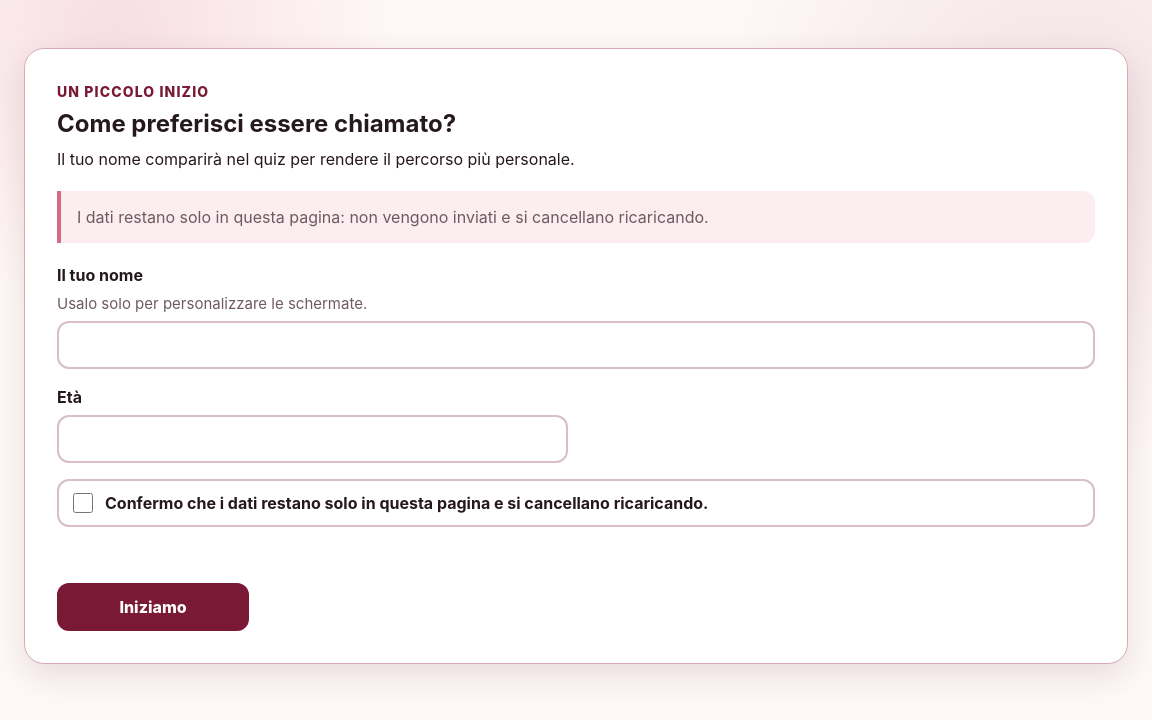
Test: LocalProfileIntroduction › blocca chi non ha l’età minima
Type "Luca" into the field labelled "Il tuo nome".
click(576, 345); type("Luca")  # box [57,321,1095,369]
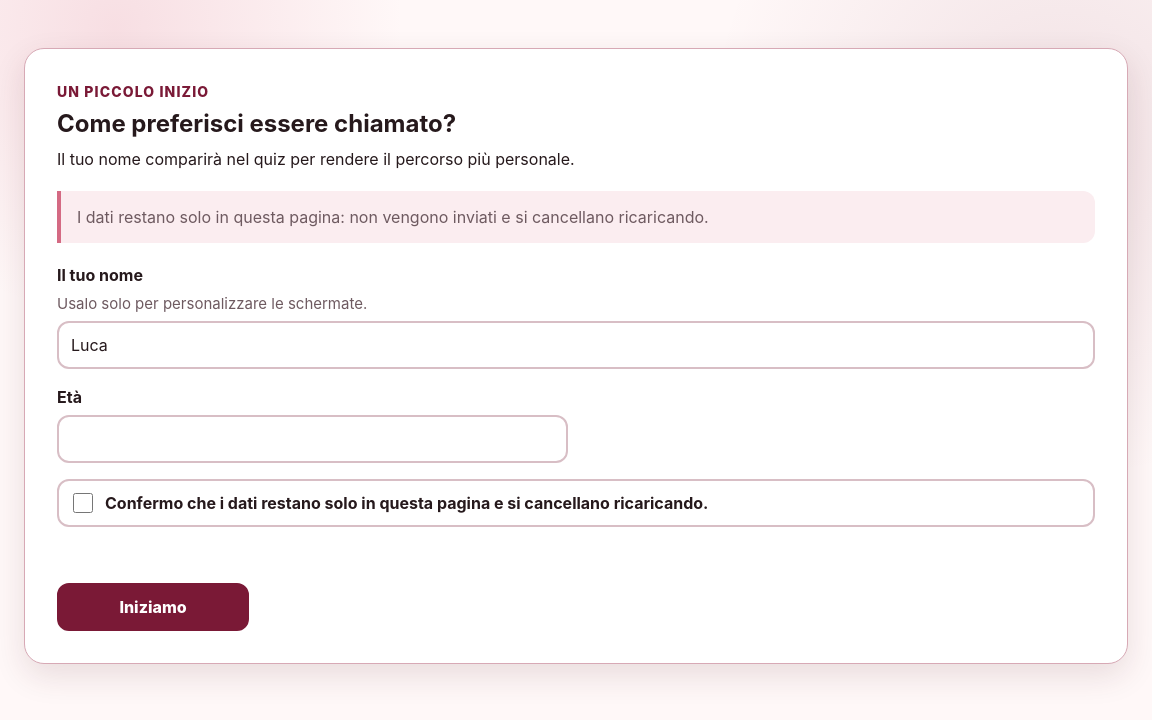
Type "17" into the number field labelled "Età".
click(312, 439); type("17")  # box [57,415,568,463]
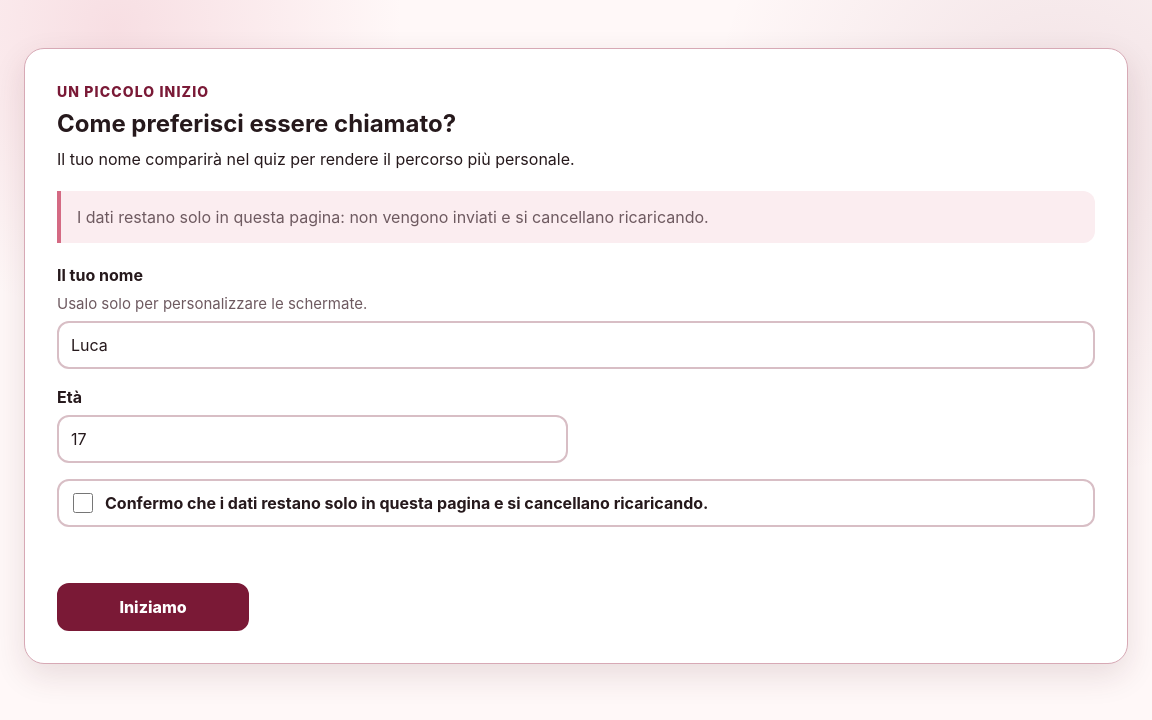
Click the checkbox.
click(83, 503)  # box [73,493,93,513]
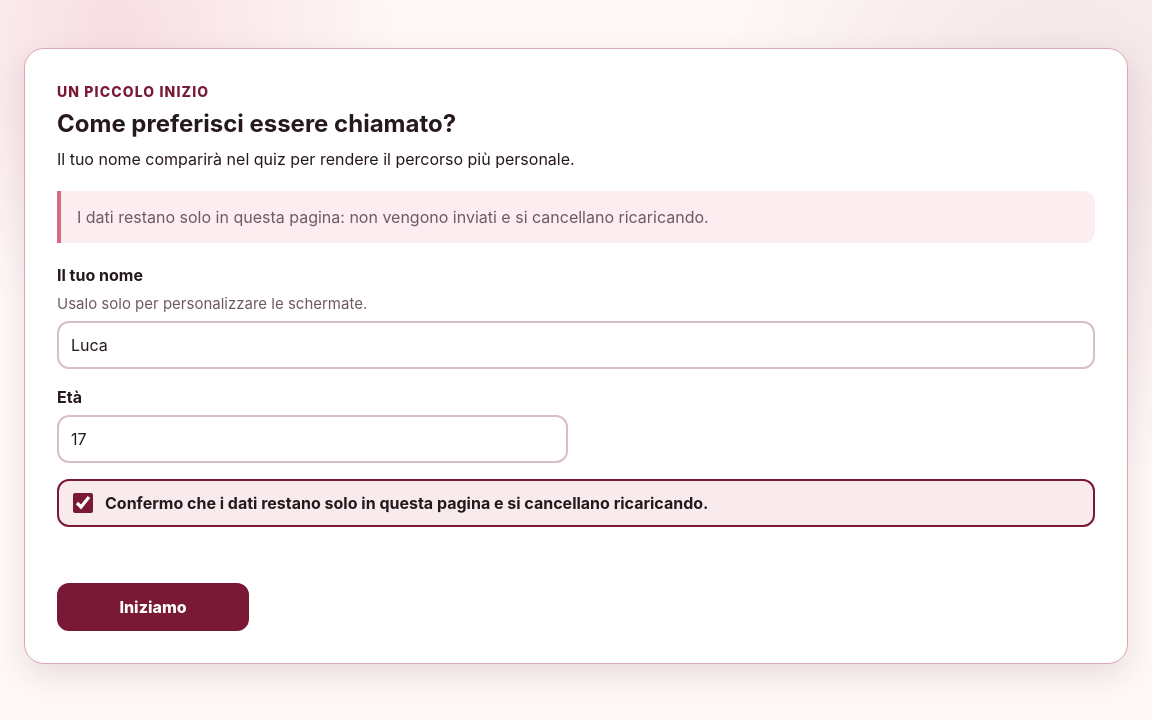
Submit the form, box [57,263,1095,631]
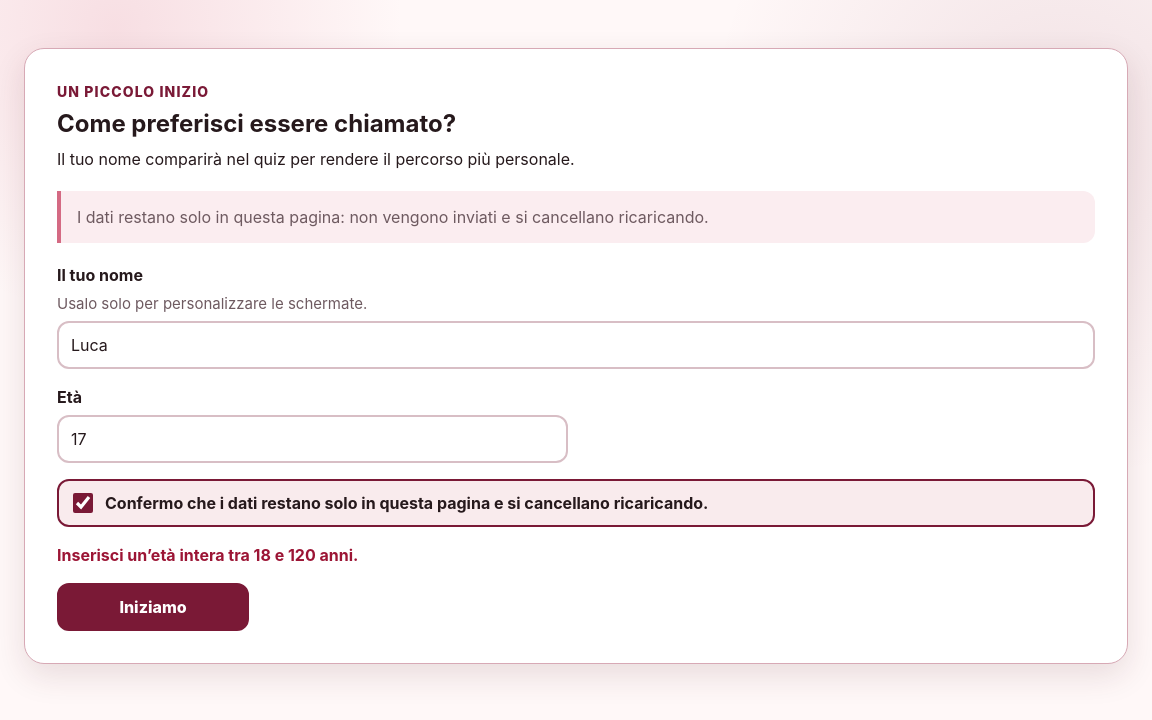
Check: the text with id "local-profile-error" reads "Inserisci un’età intera tra 18 e 120 anni.", box [57,545,358,565]
